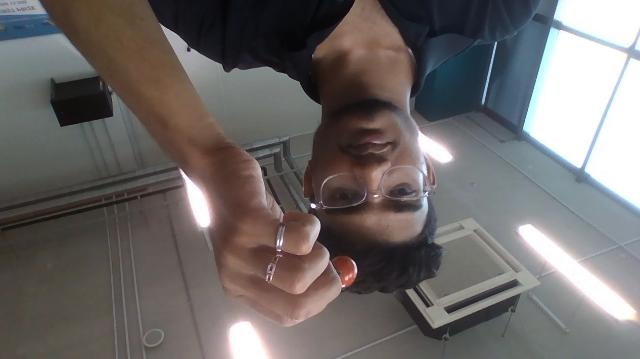Fully Grown: (331, 254, 358, 289)
